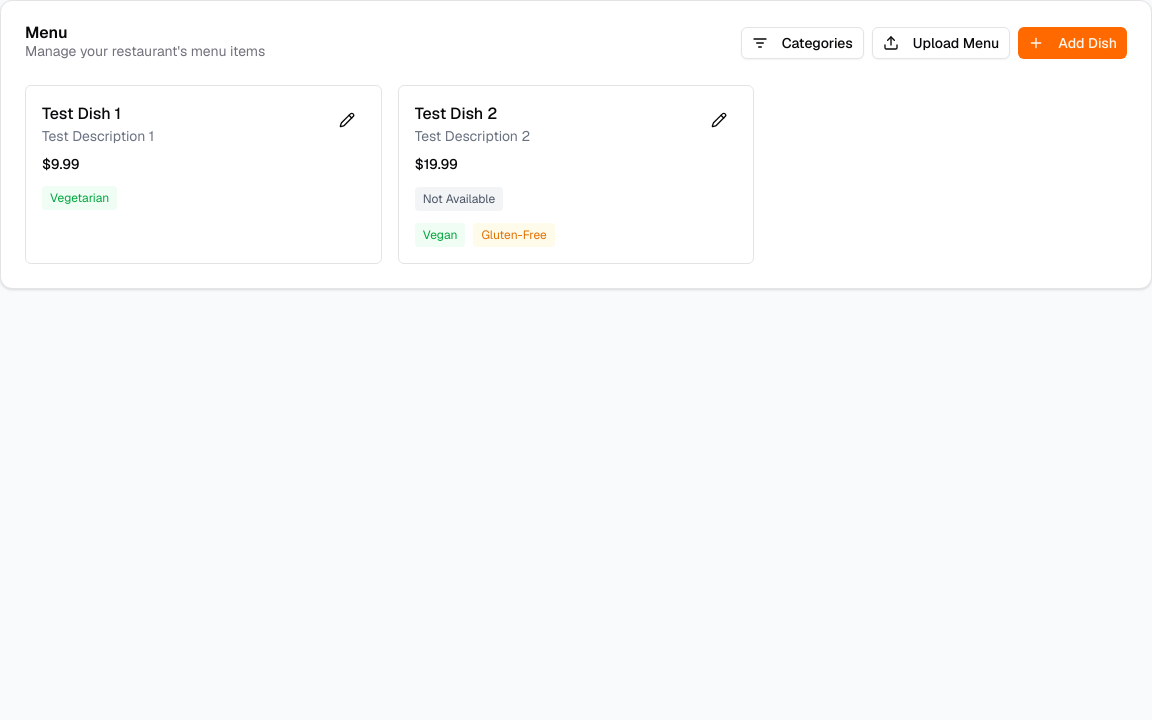
Test: Menu Component › opens categories dialog when clicking categories button
This screenshot has width=1152, height=720.
Click the button "Categories" at x=802, y=43, box [741,27,864,59]
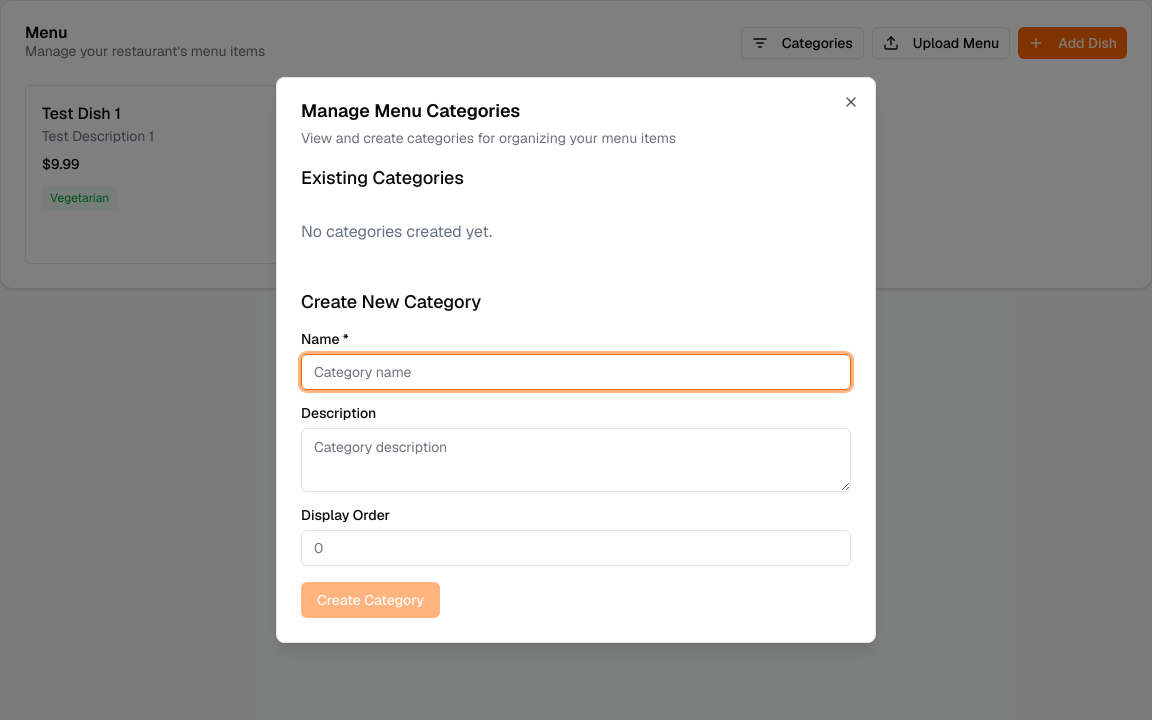
Expected: the dialog is shown, [276,77,876,643]
